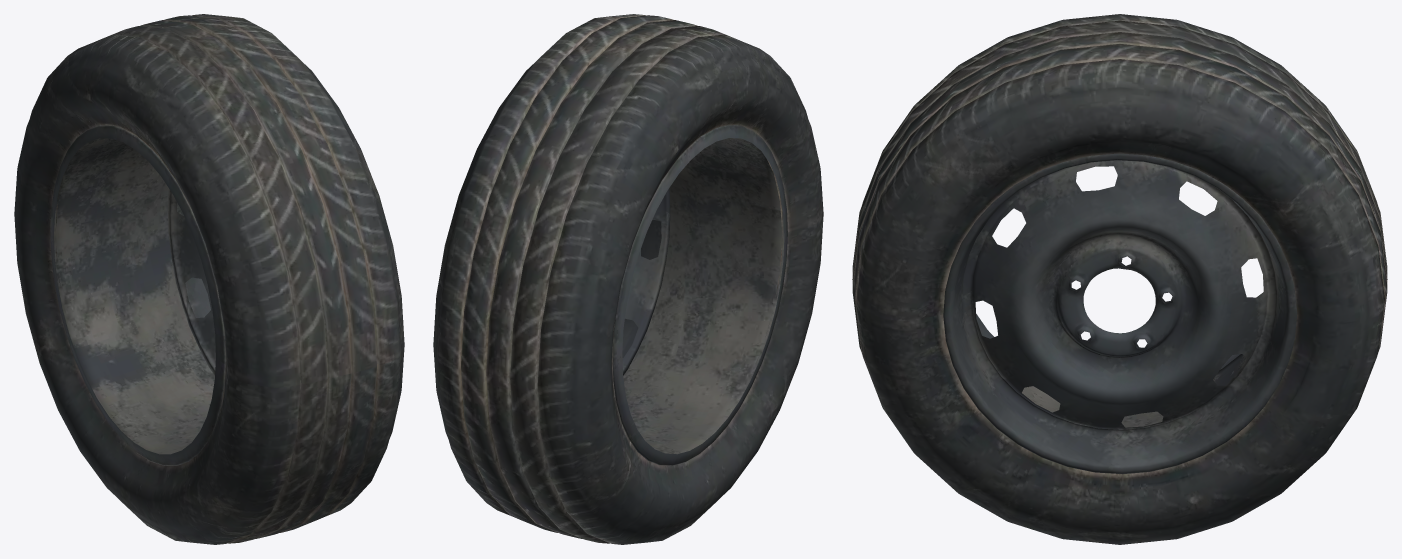
The model's file is tire.glb.
3 renders of one model, left to right at view 1: azimuth 30°, elevation 25°; view 2: azimuth 150°, elevation 25°; view 3: azimuth 270°, elevation 25°, orthographic.
Visible parts, largest first — view 1: tire; view 2: tire; view 3: tire.
Part boxes in pixels (<box>): tire: <box>14,14,404,544</box>; tire: <box>433,14,823,544</box>; tire: <box>852,14,1387,544</box>.
Bounding box in the file's own units: 0.252 × 0.68 × 0.68.
Materials: 1 (1 with a texture image).
